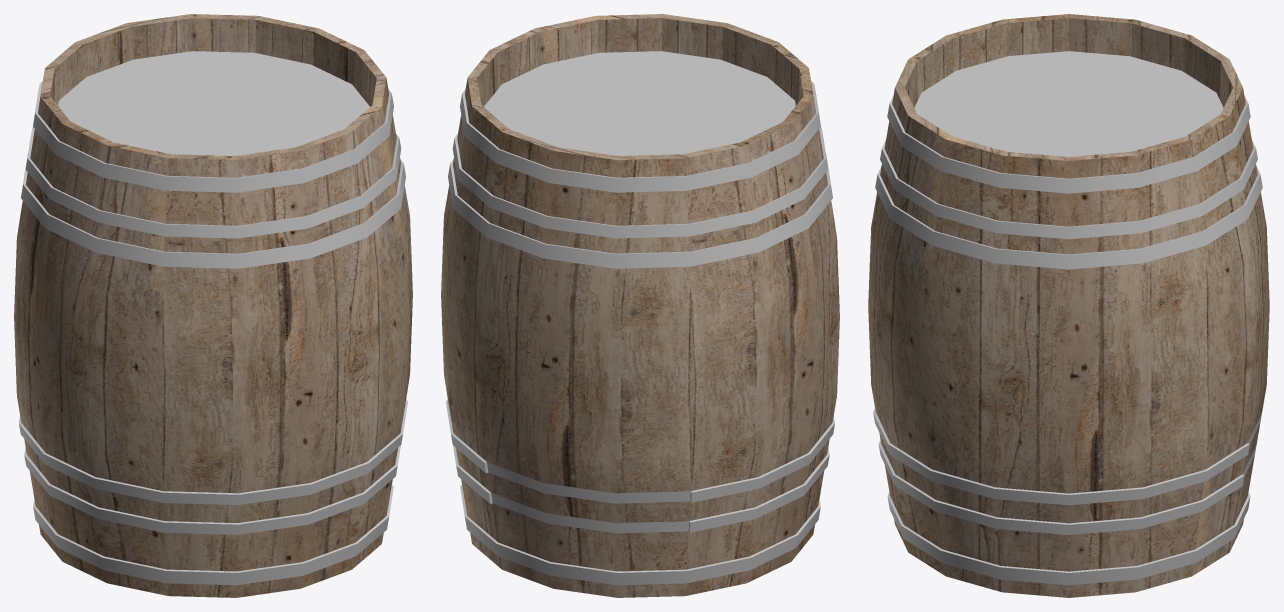
Rendered from woodenBarrelWithFlowers.FBX.
3 views of the same model, side by side, from view 1: azimuth 30°, elevation 25°; view 2: azimuth 150°, elevation 25°; view 3: azimuth 270°, elevation 25° (orthographic).
Visible parts, largest first — view 1: woodenBarrel01, flowersInside; view 2: woodenBarrel01, flowersInside; view 3: woodenBarrel01, flowersInside.
Part boxes in pixels (x1,y1,x2,y2): woodenBarrel01: [14, 14, 412, 597]; flowersInside: [58, 51, 369, 155]; woodenBarrel01: [441, 14, 839, 597]; flowersInside: [484, 51, 795, 155]; woodenBarrel01: [868, 14, 1269, 597]; flowersInside: [914, 51, 1223, 156].
Bounding box in the file's own units: 0.7496 × 0.9 × 0.7496.
